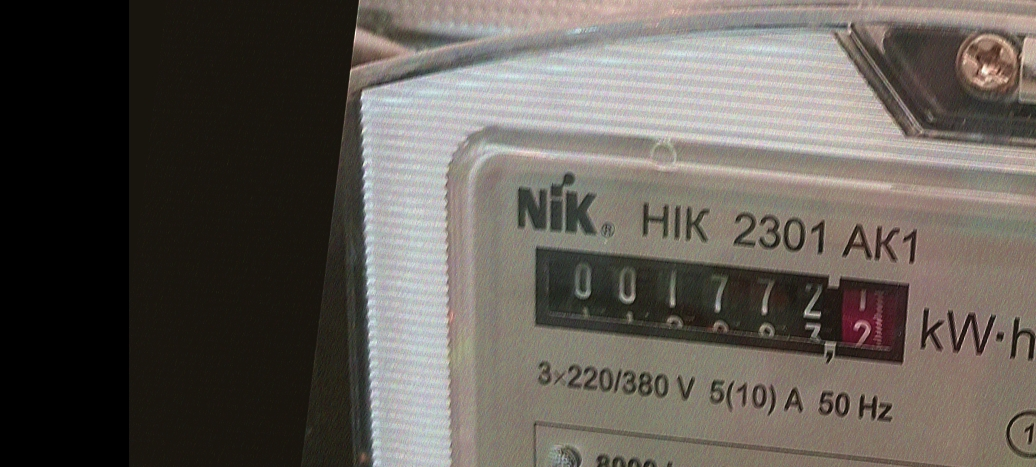0: (568, 256, 600, 300), (615, 262, 643, 303)
1: (664, 266, 685, 307), (856, 286, 872, 313)
2: (801, 281, 828, 320), (849, 316, 875, 346)
3: (803, 319, 827, 342)
7: (706, 270, 733, 314), (753, 275, 778, 316)
screen: (515, 225, 933, 383)
